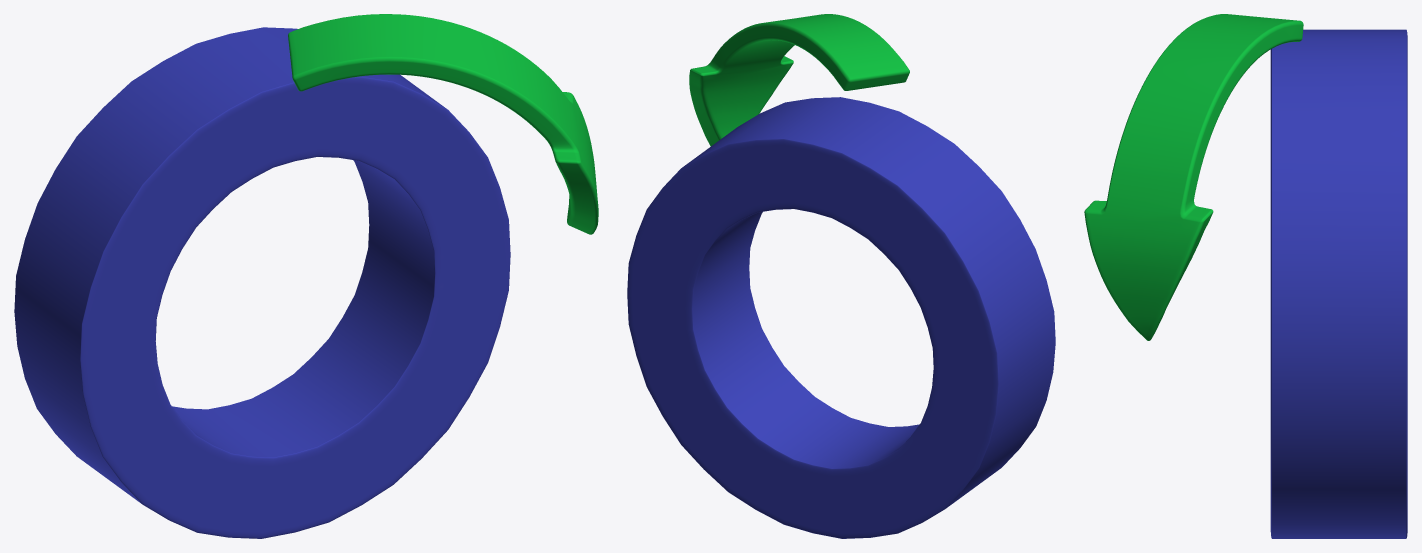
File: blue_roll.glb
The picture shows the model from 3 angles, left to right: view 1: azimuth 30°, elevation 25°; view 2: azimuth 150°, elevation 25°; view 3: azimuth 270°, elevation 25°; orthographic projection. The views are drawn at different scales.
Visible parts, largest first — view 1: node_id44, node_id54; view 2: node_id44, node_id54; view 3: node_id44, node_id54.
Part boxes in pixels (bbox=[...]): node_id44: bbox=[14, 27, 510, 538]; node_id54: bbox=[288, 14, 598, 234]; node_id44: bbox=[627, 97, 1055, 538]; node_id54: bbox=[689, 14, 909, 146]; node_id44: bbox=[1270, 29, 1407, 538]; node_id54: bbox=[1084, 14, 1303, 340].
Bounding box in the file's own units: 0.3463 × 0.3585 × 0.2038.
2 materials, 2 textured.
